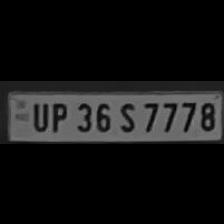3: (70, 98, 92, 132)
6: (92, 98, 114, 132)
7: (138, 98, 160, 132), (157, 98, 177, 132), (176, 98, 196, 132)
8: (195, 98, 217, 132)
P: (47, 100, 69, 132)
S: (114, 98, 138, 132)
U: (27, 98, 49, 132)
